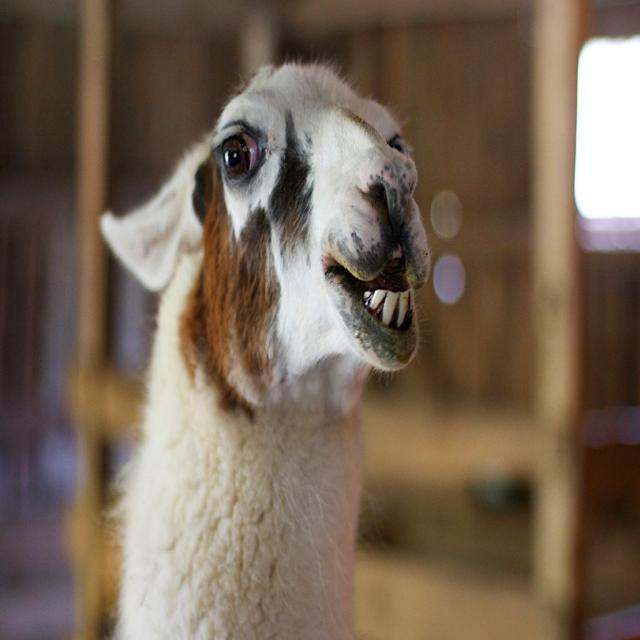Goat: (97, 55, 432, 638)
